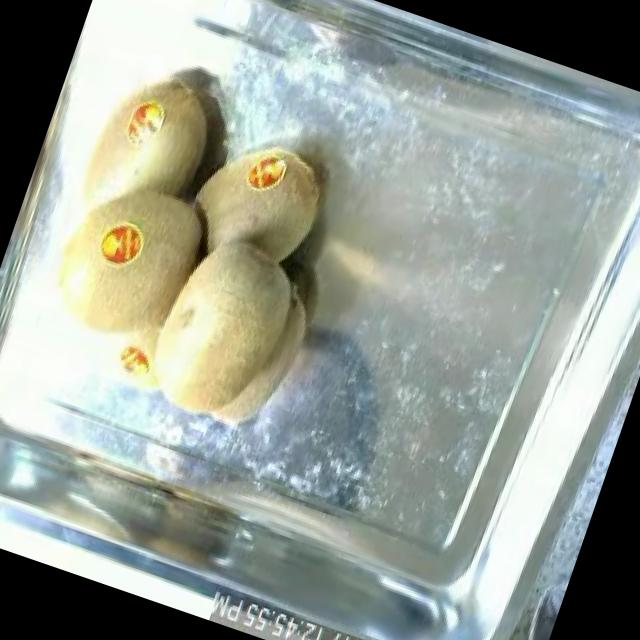Fruit: (134, 218, 344, 455), (167, 112, 348, 290), (84, 206, 158, 282)
